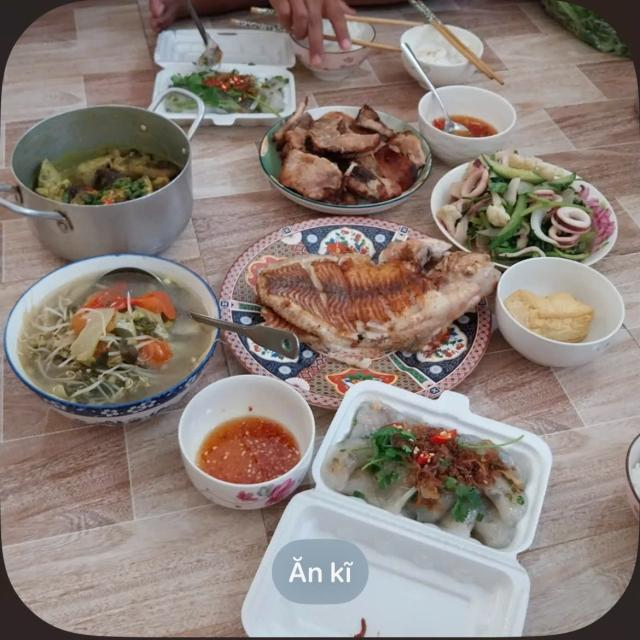canh_chua: (32, 277, 193, 399)
dau_hu_sot_ca: (504, 274, 602, 346)
